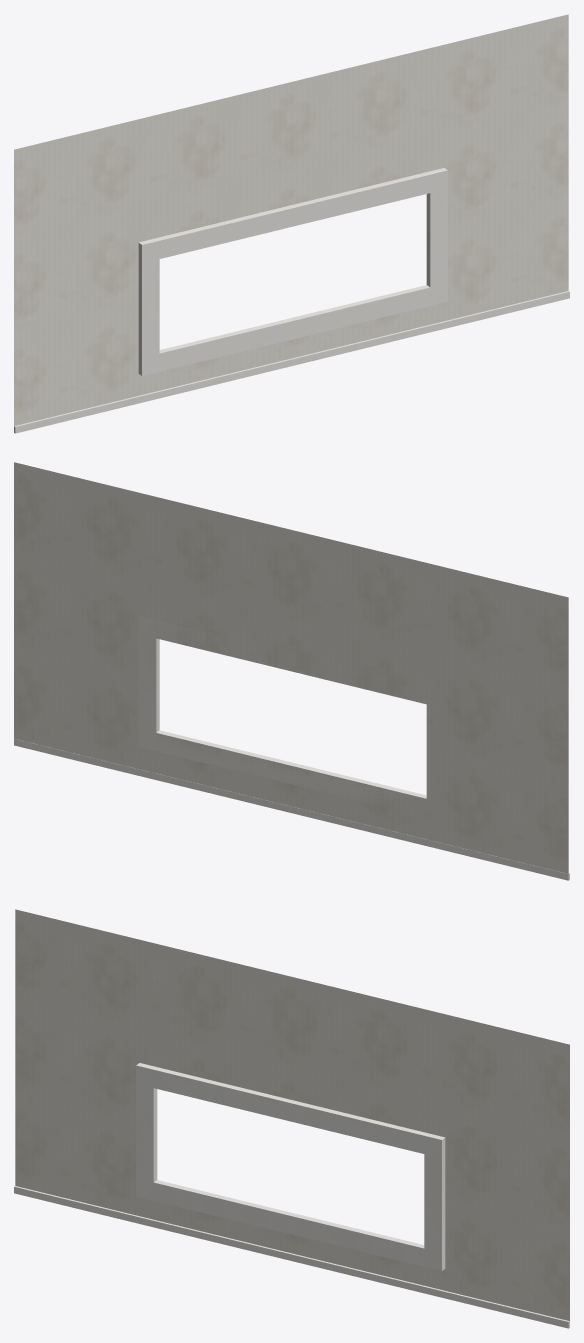
File: wall_window.gltf
The picture shows the model from 3 angles, top to bottom: view 1: azimuth 30°, elevation 25°; view 2: azimuth 150°, elevation 25°; view 3: azimuth 330°, elevation 25°; orthographic projection.
Visible parts, largest first — view 1: jx_wall_window; view 2: jx_wall_window; view 3: jx_wall_window.
Part boxes in pixels (x1=…): jx_wall_window: x1=14, y1=14, x2=569, y2=433; jx_wall_window: x1=14, y1=462, x2=569, y2=880; jx_wall_window: x1=14, y1=909, x2=569, y2=1328.
Bounding box in the file's own units: 12.3 × 6 × 0.14.
Materials: 2 (2 with a texture image).
